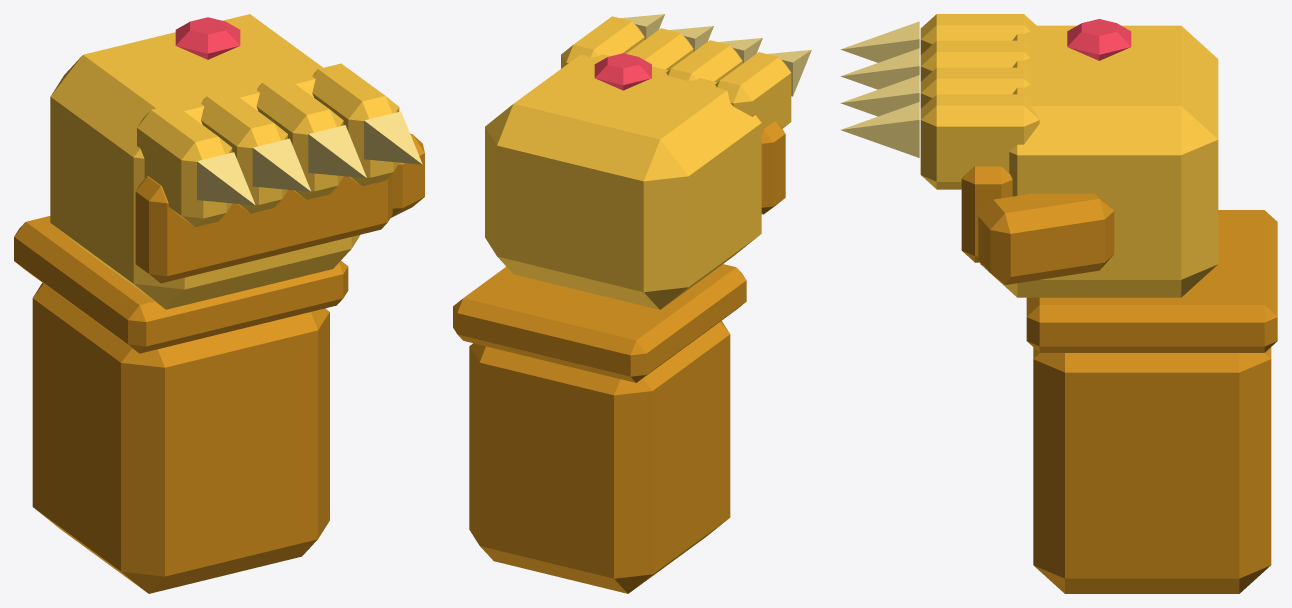
The model's file is GoldGauntlet.fbx.
3 renders of one model, left to right at view 1: azimuth 30°, elevation 25°; view 2: azimuth 150°, elevation 25°; view 3: azimuth 270°, elevation 25°, orthographic. The views are drawn at different scales.
Parts seen in each view (by area): view 1: GoldGauntlet; view 2: GoldGauntlet; view 3: GoldGauntlet.
Part boxes in pixels (<box>): GoldGauntlet: <box>14,14,424,593</box>; GoldGauntlet: <box>453,14,811,593</box>; GoldGauntlet: <box>840,14,1277,593</box>.
Bounding box in the file's own units: 1.26 × 2.21 × 1.65.
1 material, 1 textured.
